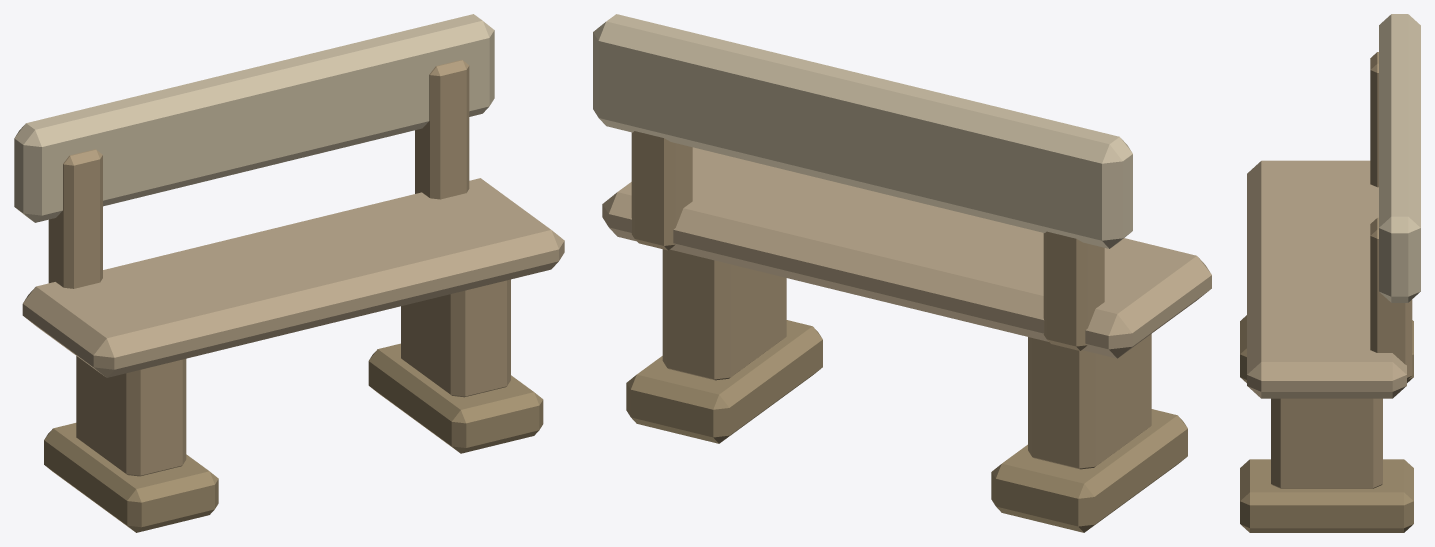
The model's file is bench_stone.glb.
3 views of the same model, side by side, from view 1: azimuth 30°, elevation 25°; view 2: azimuth 150°, elevation 25°; view 3: azimuth 270°, elevation 25° (orthographic). The views are drawn at different scales.
Parts seen in each view (by area): view 1: bench_stone; view 2: bench_stone; view 3: bench_stone.
Boxes of the visible parts, <box> form: bench_stone: <box>14,14,564,532</box>; bench_stone: <box>593,14,1211,532</box>; bench_stone: <box>1240,14,1420,532</box>.
Bounding box in the file's own units: 1.8 × 1.29 × 0.645.
